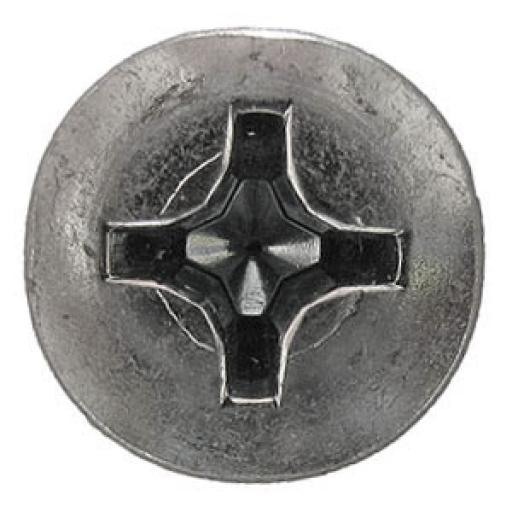Phillips: (25, 25, 486, 485)
